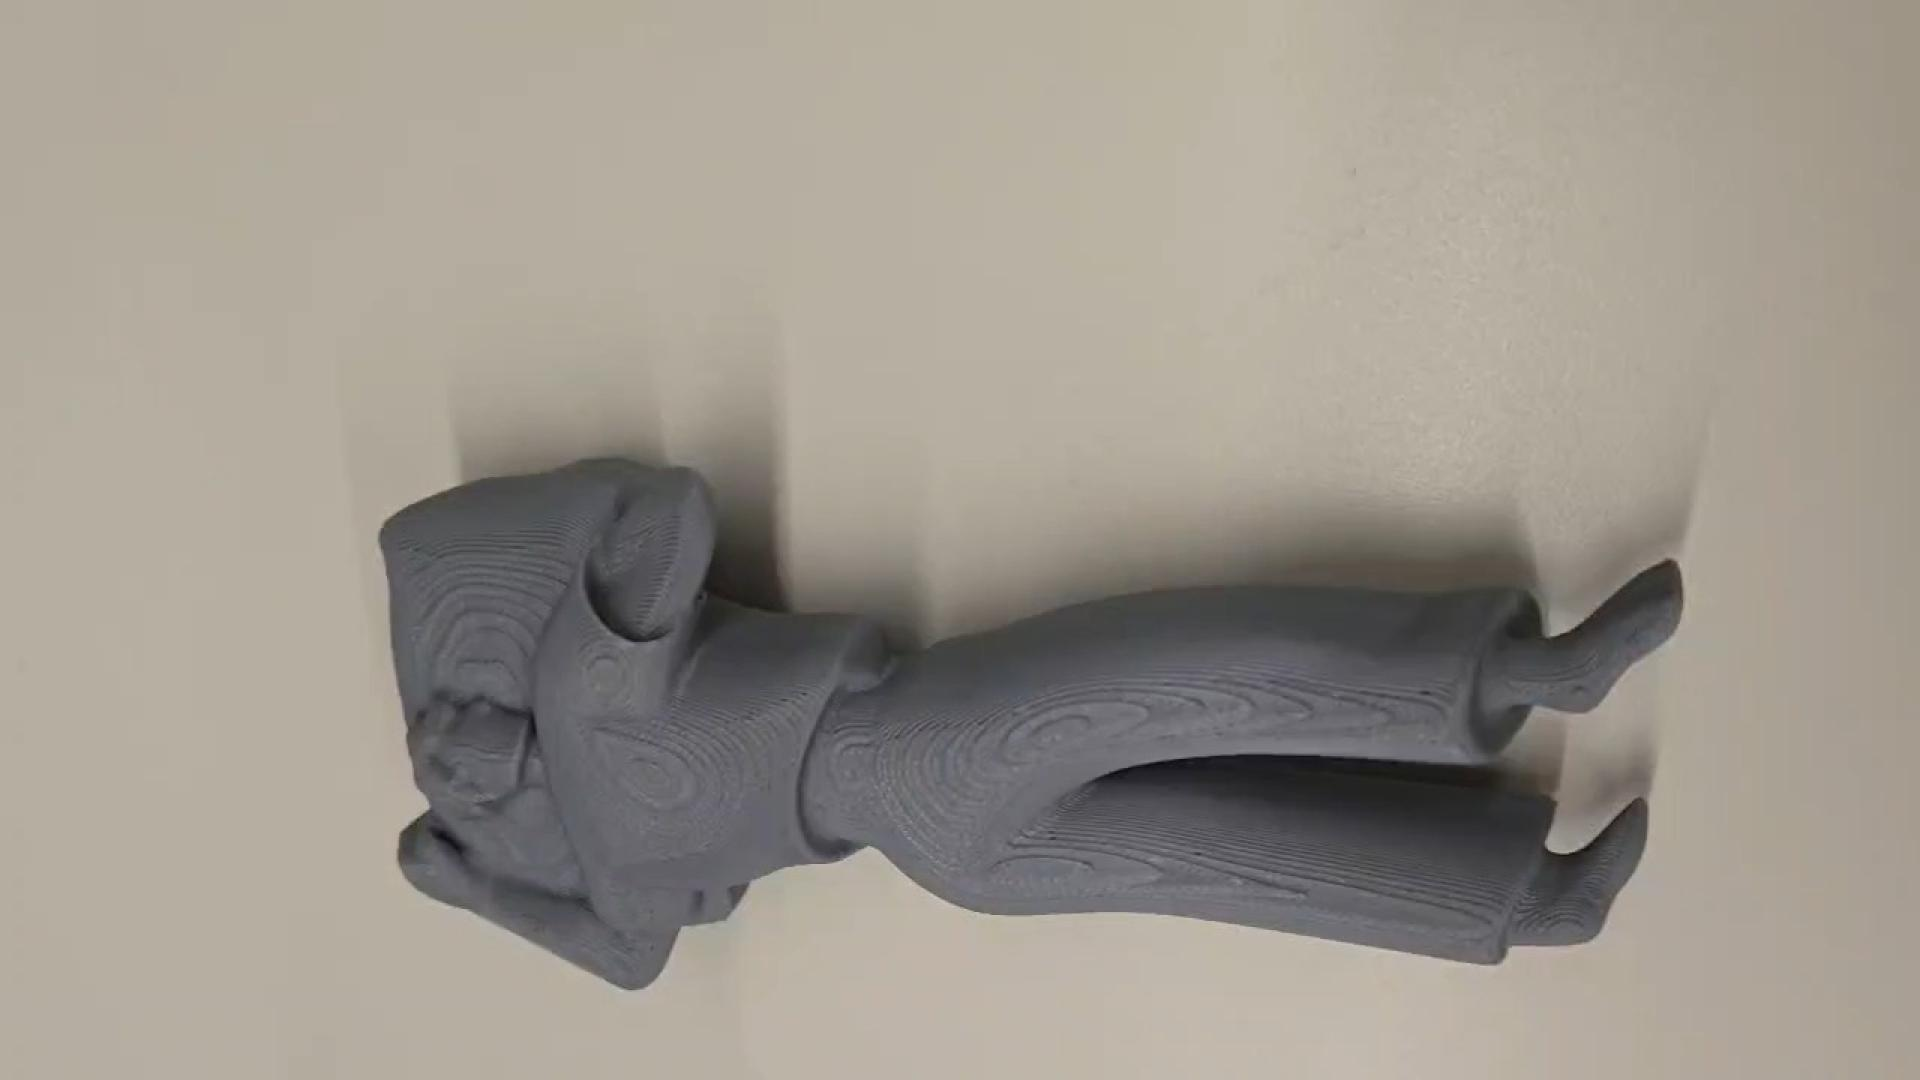Bad-style: (378, 431, 1697, 1002)
